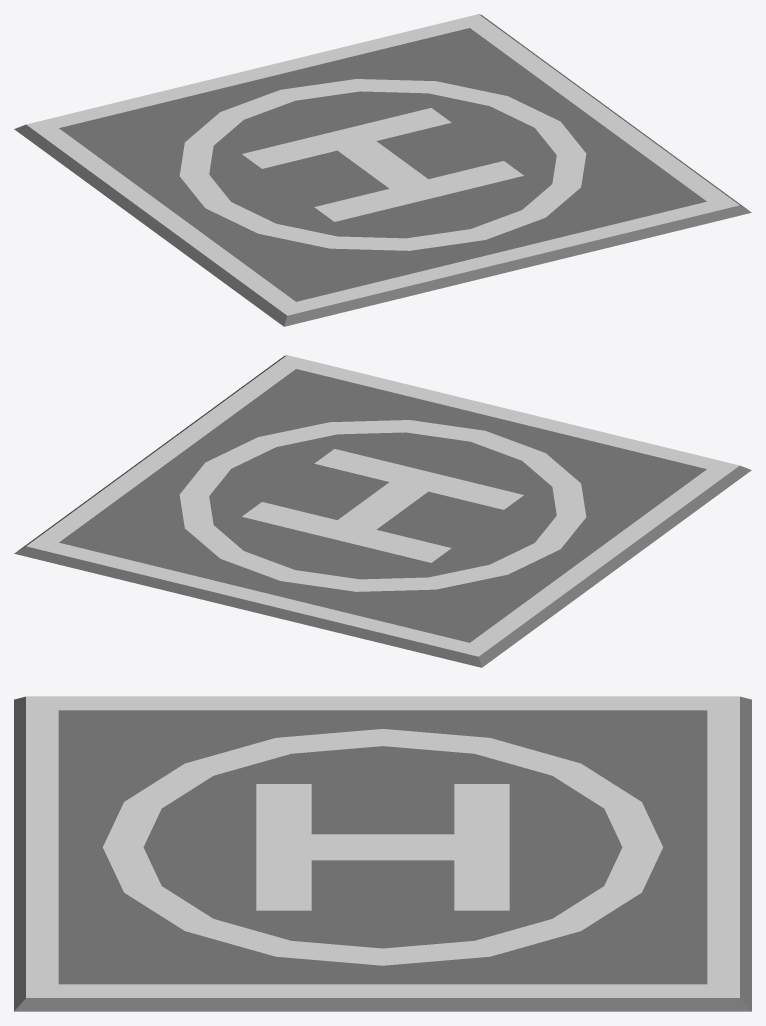
The model's file is HeliLanding_1_A.fbx.
3 renders of one model, top to bottom at view 1: azimuth 30°, elevation 25°; view 2: azimuth 150°, elevation 25°; view 3: azimuth 270°, elevation 25°, orthographic. The views are drawn at different scales.
Parts seen in each view (by area): view 1: HeliLanding_1_A; view 2: HeliLanding_1_A; view 3: HeliLanding_1_A.
Part boxes in pixels (box(x1,y1,x2,y2)): HeliLanding_1_A: box(14, 14, 751, 326); HeliLanding_1_A: box(14, 355, 751, 667); HeliLanding_1_A: box(14, 696, 751, 1011).
Bounding box in the file's own units: 460 × 5.67 × 460.
